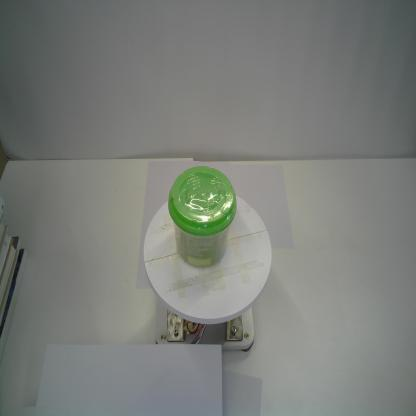Instant Drink: (167, 164, 237, 270)
